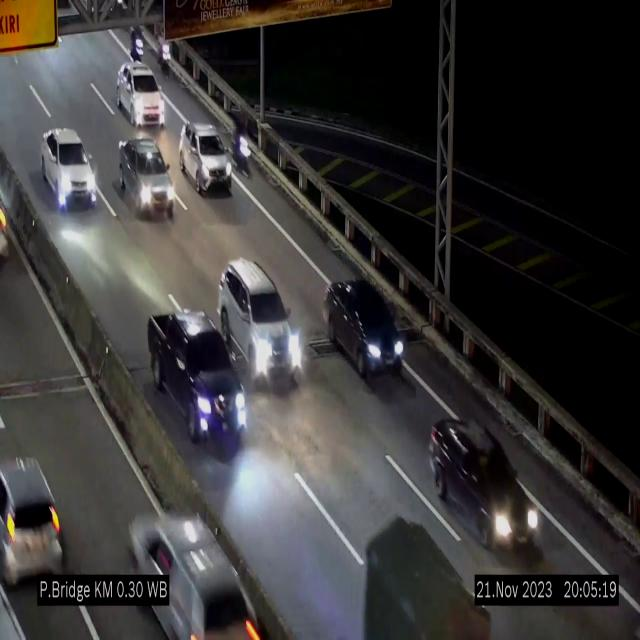Car: (126, 488, 268, 640), (430, 413, 540, 561), (147, 311, 247, 445), (0, 436, 76, 585), (218, 259, 304, 385), (325, 279, 407, 381), (118, 137, 174, 218), (42, 128, 97, 208), (179, 122, 233, 194), (116, 60, 166, 126)
Motorcycle: (230, 112, 252, 182), (153, 23, 175, 89), (130, 14, 148, 72)
Truck: (353, 503, 489, 640)
